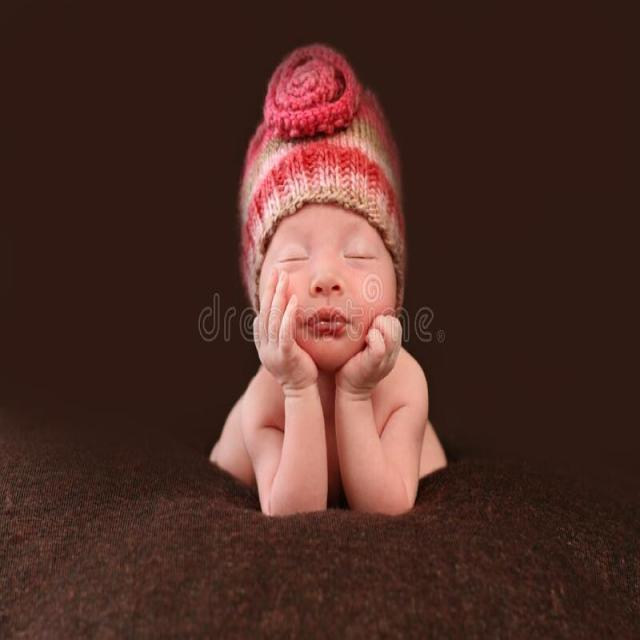non-dog: (208, 42, 450, 519)
